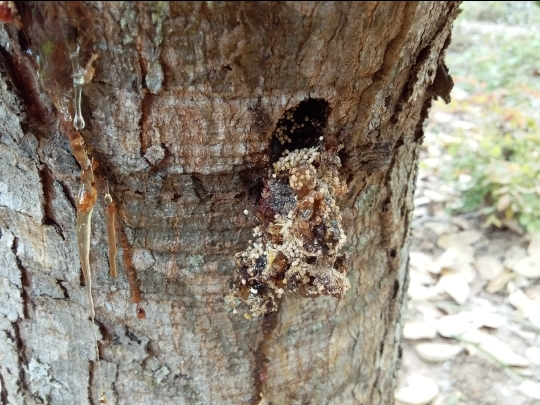Apate terebrans: (232, 80, 382, 193)
